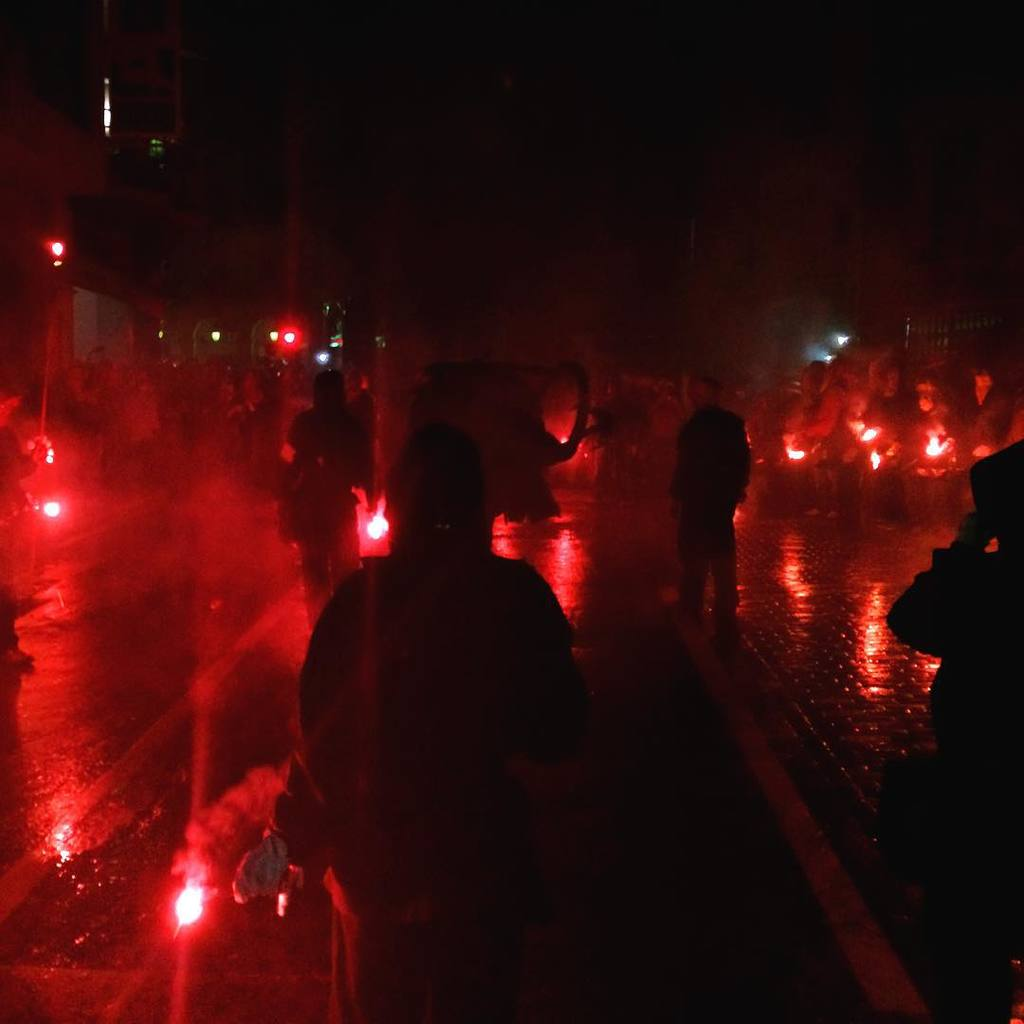Person: (0, 347, 1024, 1024)
